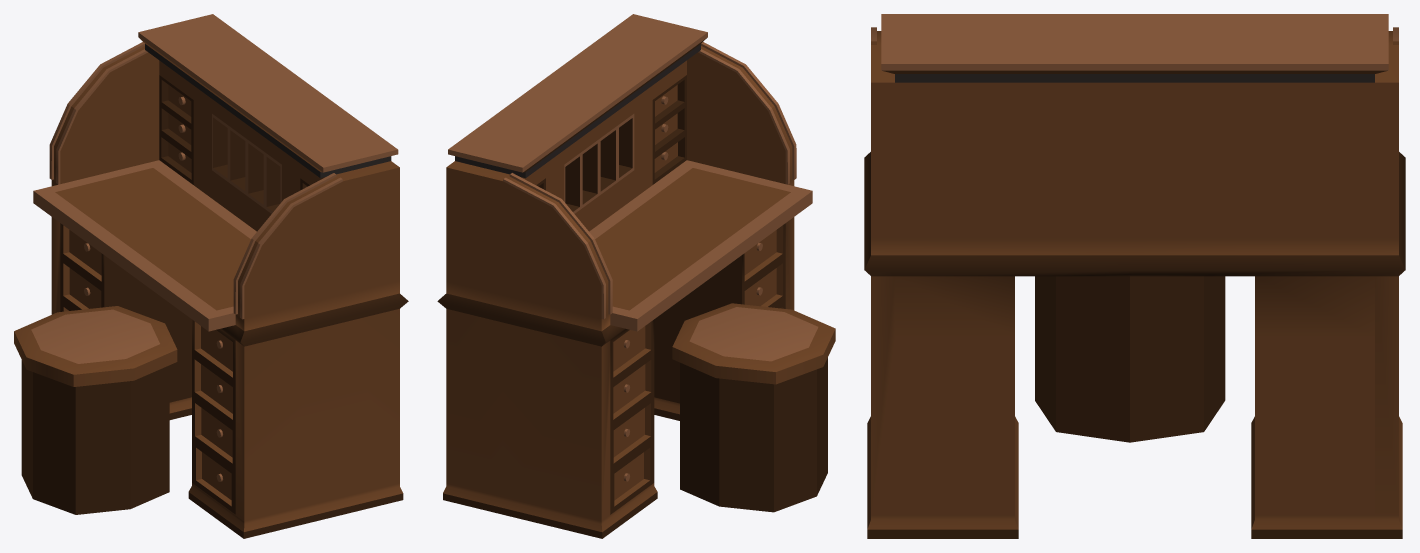
File: desk with chair.fbx
3 views of the same model, side by side, from view 1: azimuth 30°, elevation 25°; view 2: azimuth 150°, elevation 25°; view 3: azimuth 270°, elevation 25° (orthographic). The views are drawn at different scales.
Visible parts, largest first — view 1: pCube16, pCube31; view 2: pCube16, pCube31; view 3: pCube16, pCube31.
Part boxes in pixels (x1=…): pCube16: x1=33, y1=14, x2=408, y2=538; pCube31: x1=14, y1=306, x2=177, y2=514; pCube16: x1=437, y1=14, x2=812, y2=538; pCube31: x1=672, y1=303, x2=835, y2=512; pCube16: x1=864, y1=14, x2=1405, y2=538; pCube31: x1=1035, y1=276, x2=1225, y2=442.
Size of the model in its own units: 5.57 by 6.51 by 6.67.
